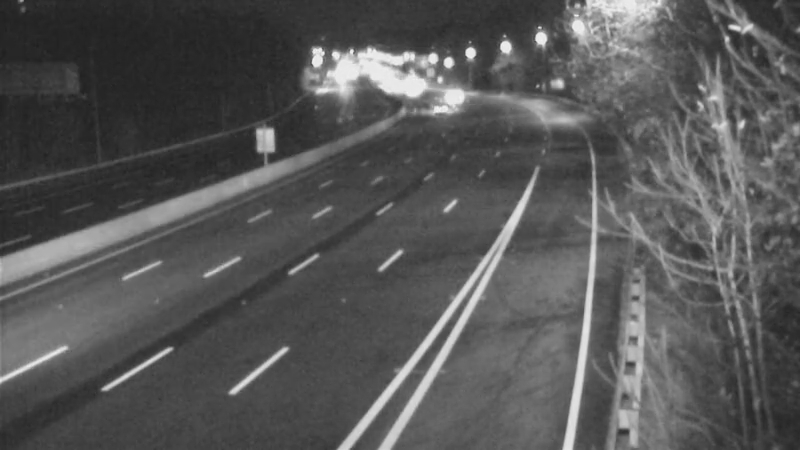vehicle: (431, 67, 481, 117), (415, 82, 465, 132)
